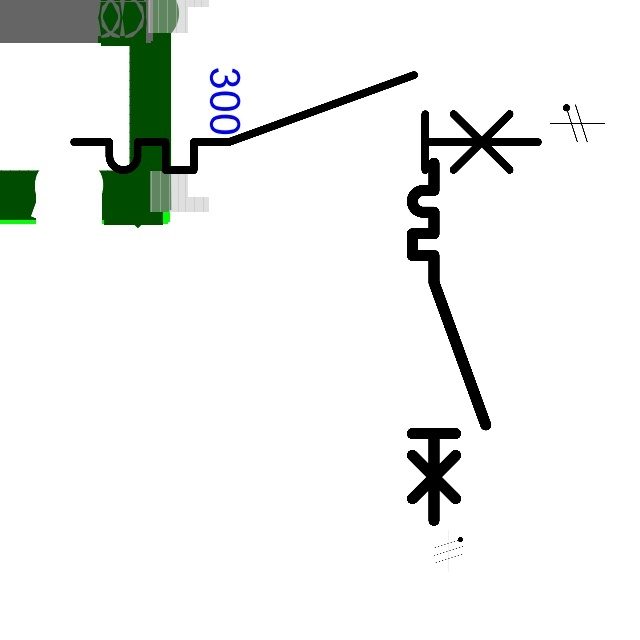interruptor_termomagnetico: (62, 63, 550, 182), (403, 154, 495, 529)
